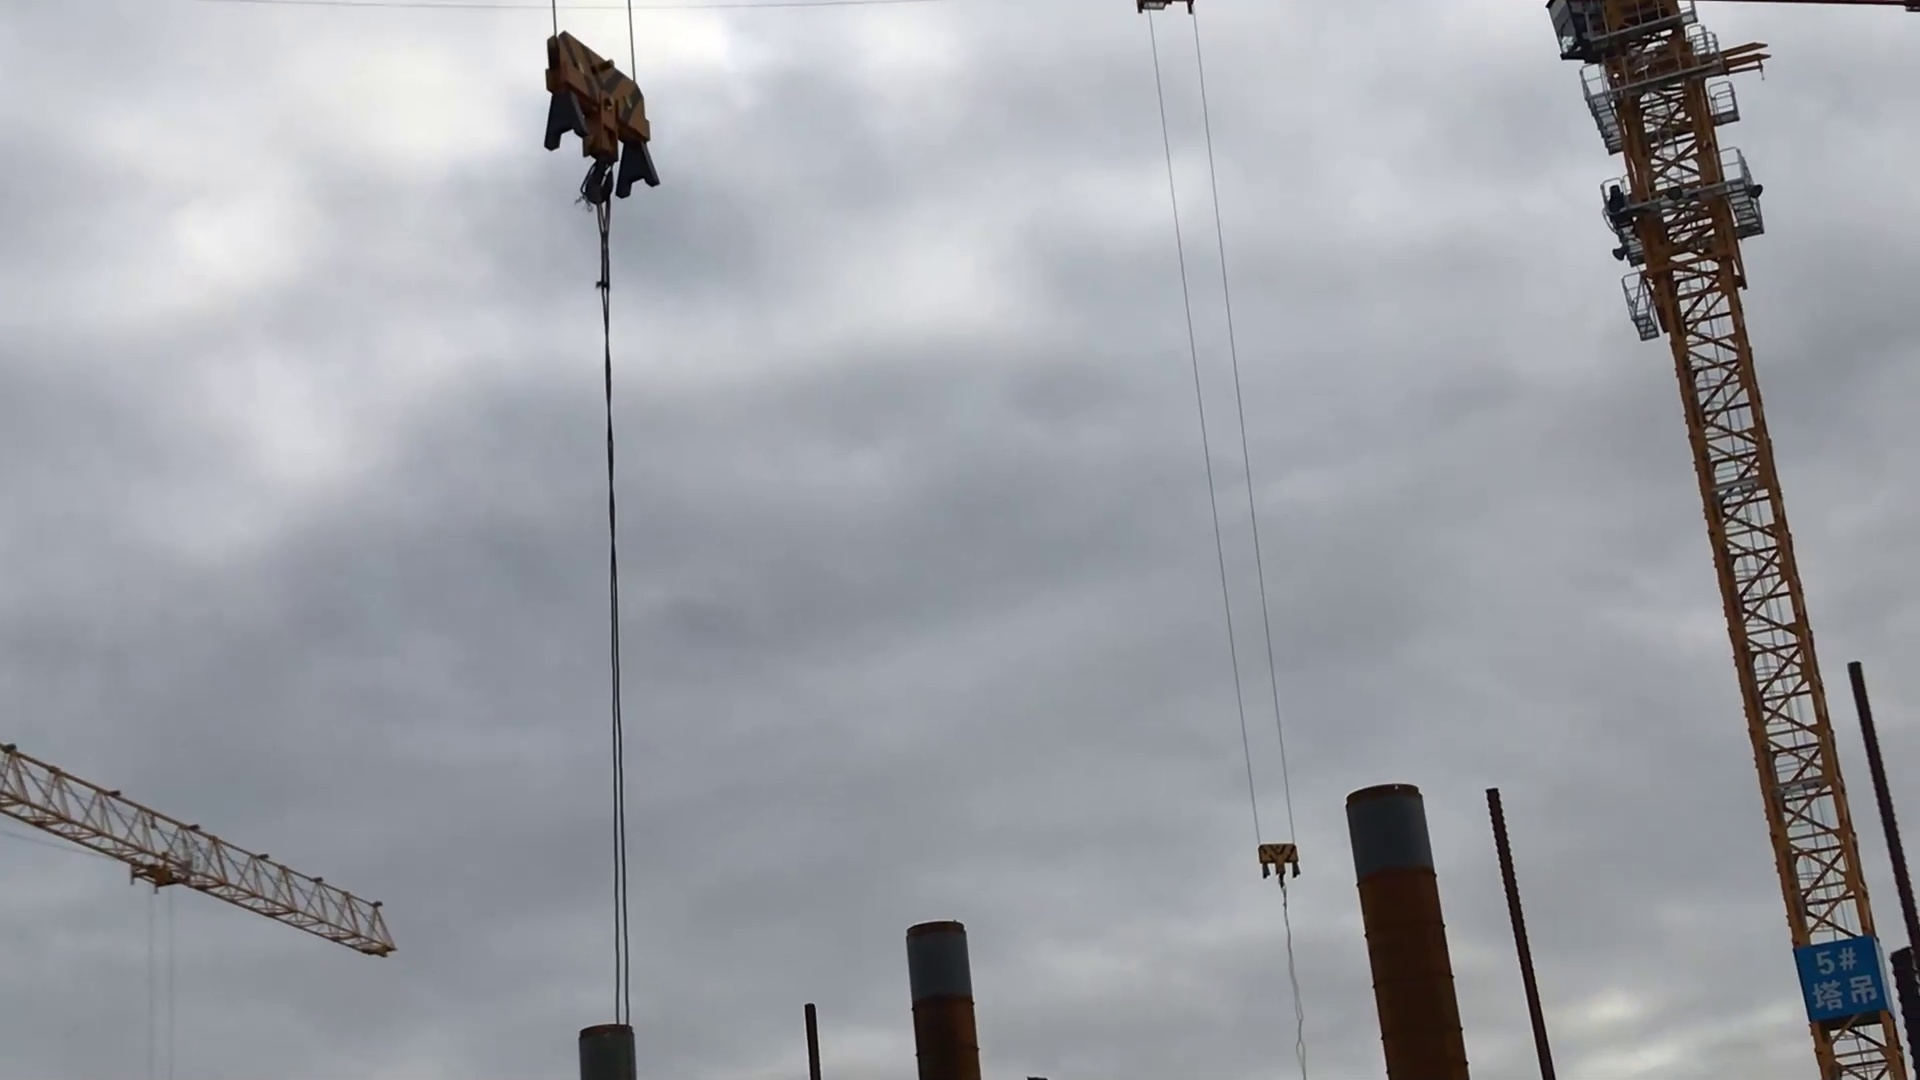hook: (534, 32, 674, 224), (1255, 836, 1309, 905)
slogan: (1787, 936, 1892, 1036)
